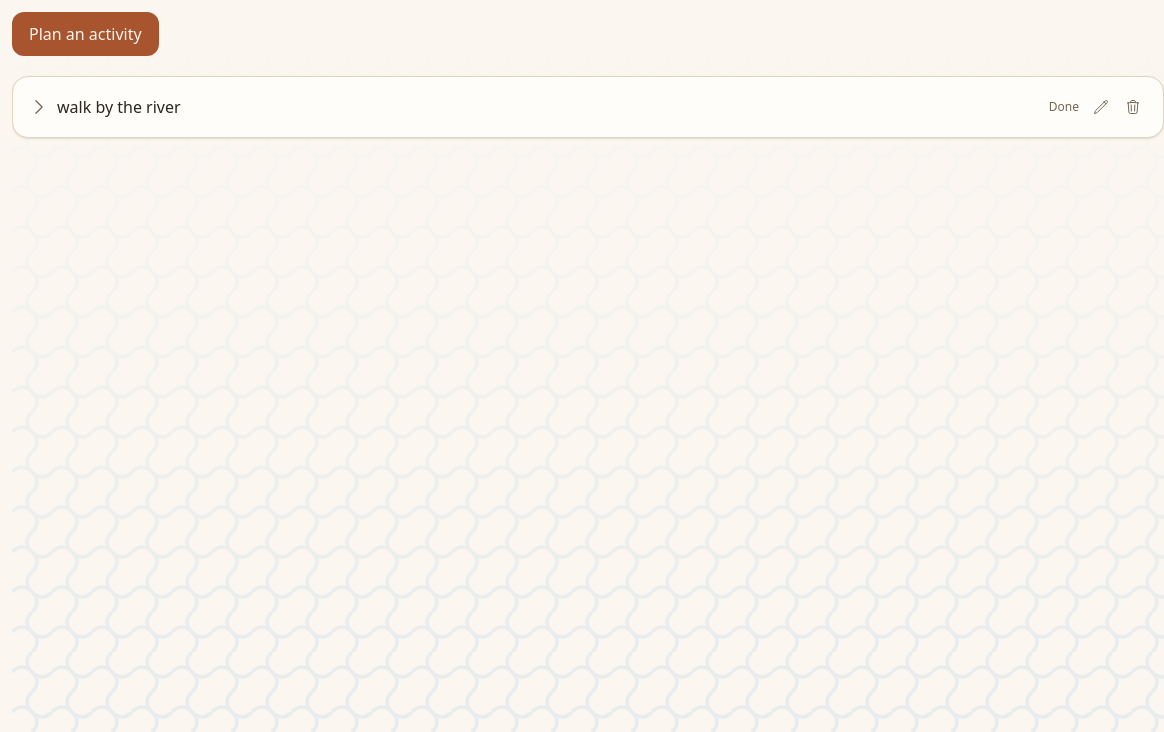
BehavioralActivation tool › shows predicted and experienced feelings as words, never a numeric delta
The width and height of the screenshot is (1164, 732).
Expand the saved card to reveal the feelings.
Click the button named "Show details": (39, 107) [25,93,53,121]
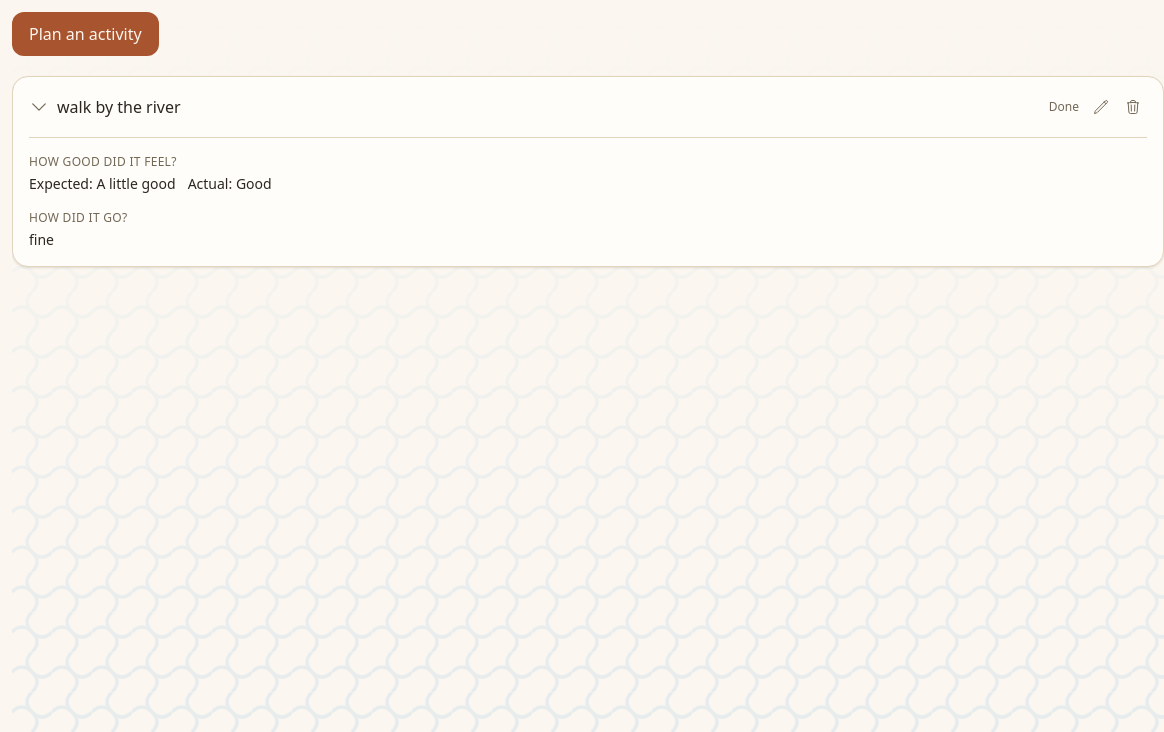
Check: the text "Expected: A little good" is shown, box [29,174,176,193]
Check: the text "Actual: Good" is shown, box [188,174,272,193]
